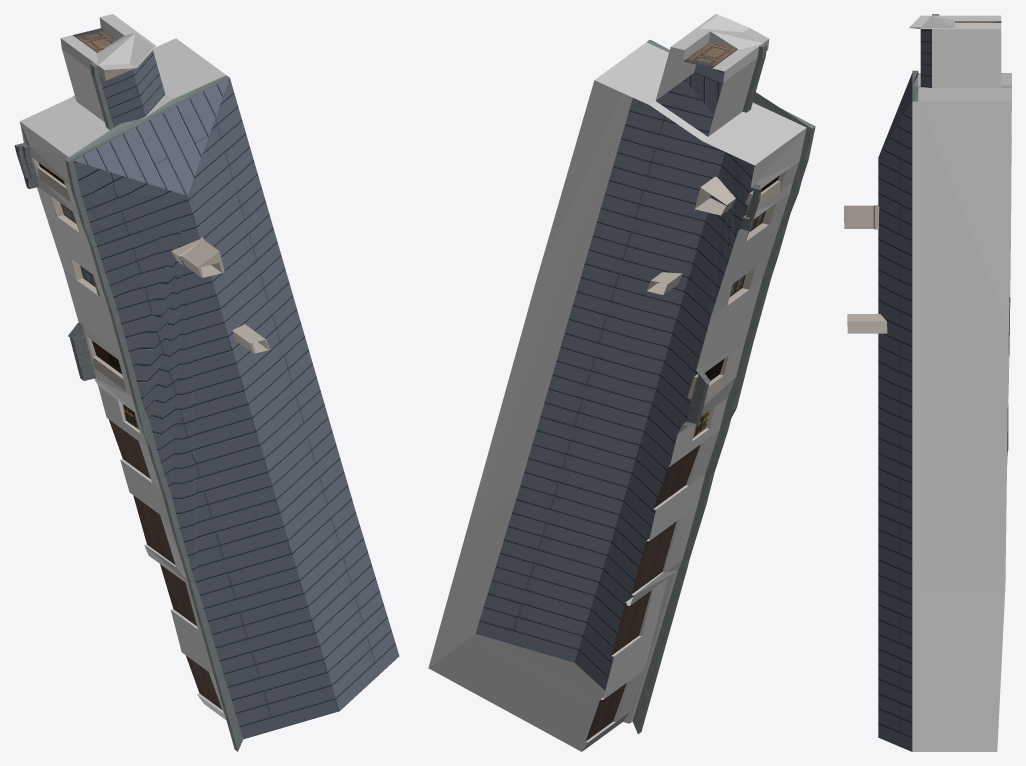
The model's file is Wismari7_2-origo.obj.
3 views of the same model, side by side, from view 1: azimuth 30°, elevation 25°; view 2: azimuth 150°, elevation 25°; view 3: azimuth 270°, elevation 25° (orthographic). The views are drawn at different scales.
Parts seen in each view (by area): view 1: W7_BuildingA01; view 2: W7_BuildingA01; view 3: W7_BuildingA01.
Boxes of the visible parts, <box> form: W7_BuildingA01: <box>14,14,399,751</box>; W7_BuildingA01: <box>428,14,815,751</box>; W7_BuildingA01: <box>844,14,1011,751</box>.
Bounding box in the file's own units: 15.38 × 32 × 7.3.
